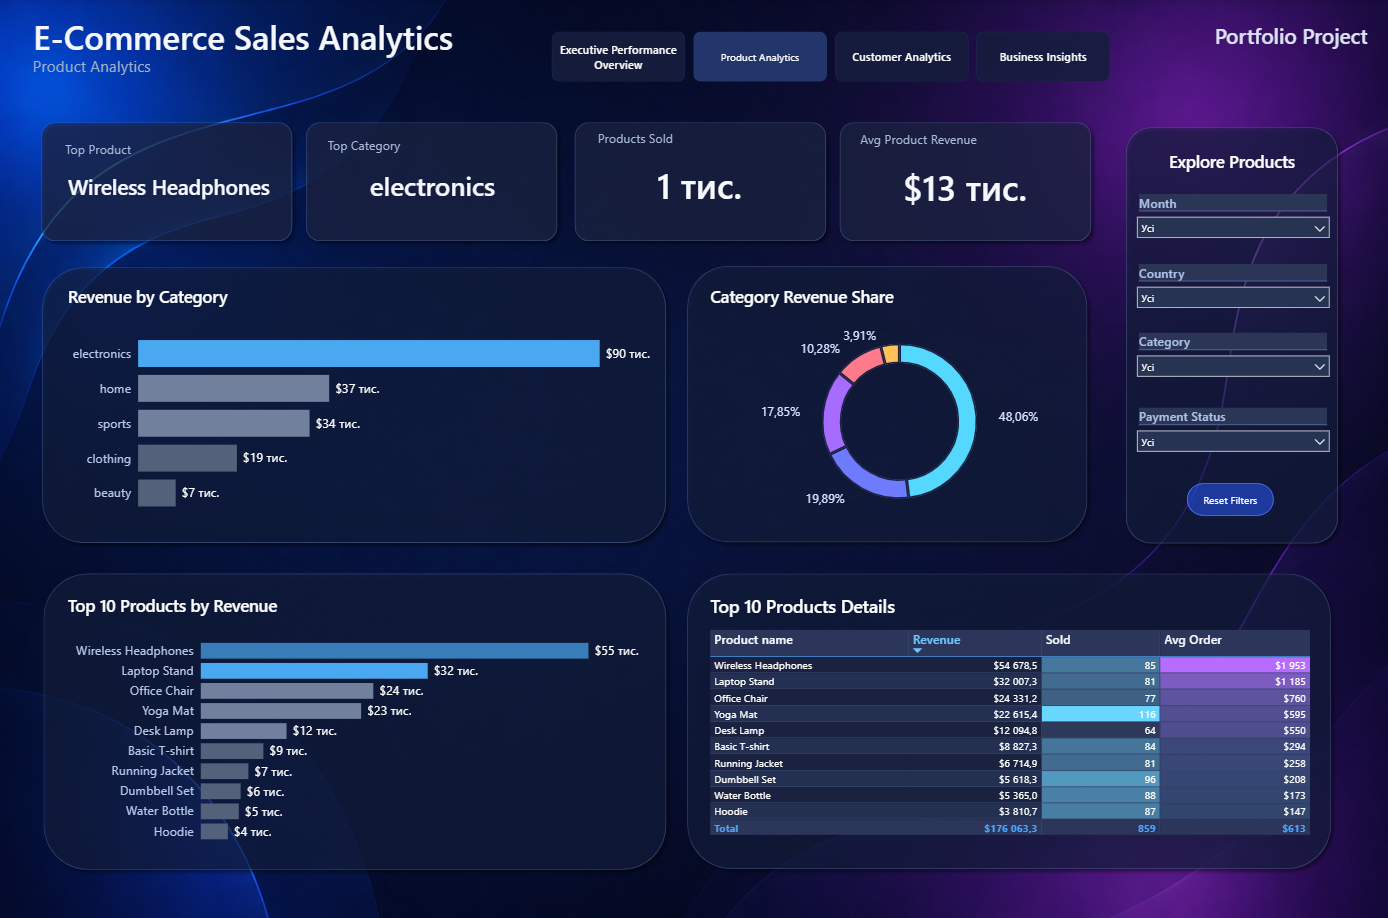

The dashboard page shown, as its layout file describes it:
{"tool":"powerbi","page":{"name":"Product Analytics","canvas":[1800,1200],"ordinal":1},"visuals":[{"type":"shape","box":[735.2,150,342.9,171.7],"z":0,"group":"g2"},{"type":"group","id":"g1","title":"Група 5","box":[47.1,337.1,824.3,374.3],"z":0},{"type":"shape","box":[48,733,823,401],"z":0,"group":"g3"},{"type":"shape","box":[21.7,10,946,76],"z":1000},{"type":"shape","box":[388.6,150,342.9,171.7],"z":1000,"group":"g2"},{"type":"shape","box":[880,734,850,400],"z":1000,"group":"g4"},{"type":"shape","box":[21.7,56.7,323.3,60],"z":2000},{"type":"group","id":"g2","title":"Група 1","box":[46,150,1374,172],"z":2000,"group":"g6"},{"type":"shape","box":[46,150,342.9,171.7],"z":2000,"group":"g2"},{"type":"shape","box":[1448,156,292,556],"z":2000,"group":"g5"},{"type":"shape","box":[47.1,337.1,824.3,374.3],"z":2000,"group":"g1"},{"type":"shape","box":[1493.3,23.3,278.3,50],"z":3000},{"type":"shape","box":[1077.8,150,342.9,171.7],"z":3000,"group":"g2"},{"type":"cardVisual","fields":{"Data":["_Measures.Top Product"]},"box":[57.3,153.2,326.3,134.1],"z":4000,"group":"g6"},{"type":"shape","box":[880,336.7,535,375],"z":4000},{"type":"group","id":"g3","title":"Група 9","box":[48,733,823,401],"z":5000},{"type":"group","id":"g4","title":"Група 7","box":[880,734,850,400],"z":6000},{"type":"group","id":"g5","title":"Група 2","box":[1448,156,292,556],"z":7000},{"type":"group","id":"g6","title":"Група 3","box":[46,150,1374,172],"z":8000},{"type":"clusteredBarChart","title":"Revenue by Category","fields":{"Y":["_Measures.Total Revenue"],"Category":["products.category"]},"box":[84,370,762.5,310.2],"z":9000},{"type":"slicer","fields":{"Values":["Calendar.Month"]},"box":[1460.5,246.3,269.1,76.9],"z":10000,"group":"g5"},{"type":"donutChart","title":"Category Revenue Share","fields":{"Y":["_Measures.Total Revenue"],"Category":["products.category"]},"box":[914.4,370,499.2,311.8],"z":10000},{"type":"slicer","fields":{"Values":["customers.country"]},"box":[1460.5,337.1,269.1,79.7],"z":11000,"group":"g5"},{"type":"clusteredBarChart","title":"Top 10 Products by Revenue","fields":{"Category":["products.product_name"],"Y":["_Measures.Total Revenue"]},"box":[84,769,748,332.8],"z":11000},{"type":"cardVisual","fields":{"Data":["_Measures.Average Product Revenue"]},"box":[1084.8,153.2,329.6,135.7],"z":12000,"group":"g6"},{"type":"pivotTable","title":"Top 10 Products Details","fields":{"Values":["_Measures.Total Revenue","_Measures.Products Sold","_Measures.Average Order Value"],"Rows":["products.product_name"]},"box":[914.4,769,785.1,332.8],"z":12000},{"type":"pageNavigator","box":[714,42,725.7,65.7],"z":13000},{"type":"cardVisual","fields":{"Data":["_Measures.Top Category"]},"box":[396.6,153.2,329.6,134.1],"z":13000,"group":"g6"},{"type":"slicer","fields":{"Values":["products.category"]},"box":[1460.5,426.1,269.1,77.9],"z":13000,"group":"g5"},{"type":"cardVisual","fields":{"Data":["_Measures.Products Sold"]},"box":[745.5,153.2,321.5,132.5],"z":15000,"group":"g6"},{"type":"slicer","fields":{"Values":["orders.payment_status"]},"box":[1460.5,522.5,269.1,77.9],"z":16000,"group":"g5"},{"type":"actionButton","box":[1529.2,617.2,126.2,56.2],"z":19000,"group":"g5"}]}

Visuals, with their boxes in screenshot pixels (x1, y1, x2, y2), scaled from the page's 1800x1200 canvas onto the 1388x918 screenshot:
shape: bbox=[567, 115, 831, 246]
"Група 5" group: bbox=[36, 258, 672, 544]
shape: bbox=[37, 561, 672, 868]
shape: bbox=[17, 8, 746, 66]
shape: bbox=[300, 115, 564, 246]
shape: bbox=[679, 562, 1334, 868]
shape: bbox=[17, 43, 266, 89]
"Група 1" group: bbox=[35, 115, 1095, 246]
shape: bbox=[35, 115, 300, 246]
shape: bbox=[1117, 119, 1342, 545]
shape: bbox=[36, 258, 672, 544]
shape: bbox=[1152, 18, 1366, 56]
shape: bbox=[831, 115, 1096, 246]
cardVisual - _Measures.Top Product: bbox=[44, 117, 296, 220]
shape: bbox=[679, 258, 1091, 544]
"Група 9" group: bbox=[37, 561, 672, 868]
"Група 7" group: bbox=[679, 562, 1334, 868]
"Група 2" group: bbox=[1117, 119, 1342, 545]
"Група 3" group: bbox=[35, 115, 1095, 246]
"Revenue by Category" clusteredBarChart: bbox=[65, 283, 653, 520]
slicer - Calendar.Month: bbox=[1126, 188, 1334, 247]
"Category Revenue Share" donutChart: bbox=[705, 283, 1090, 522]
slicer - customers.country: bbox=[1126, 258, 1334, 319]
"Top 10 Products by Revenue" clusteredBarChart: bbox=[65, 588, 642, 843]
cardVisual - _Measures.Average Product Revenue: bbox=[837, 117, 1091, 221]
"Top 10 Products Details" pivotTable: bbox=[705, 588, 1311, 843]
pageNavigator: bbox=[551, 32, 1110, 82]
cardVisual - _Measures.Top Category: bbox=[306, 117, 560, 220]
slicer - products.category: bbox=[1126, 326, 1334, 386]
cardVisual - _Measures.Products Sold: bbox=[575, 117, 823, 219]
slicer - orders.payment_status: bbox=[1126, 400, 1334, 459]
actionButton: bbox=[1179, 472, 1276, 515]
